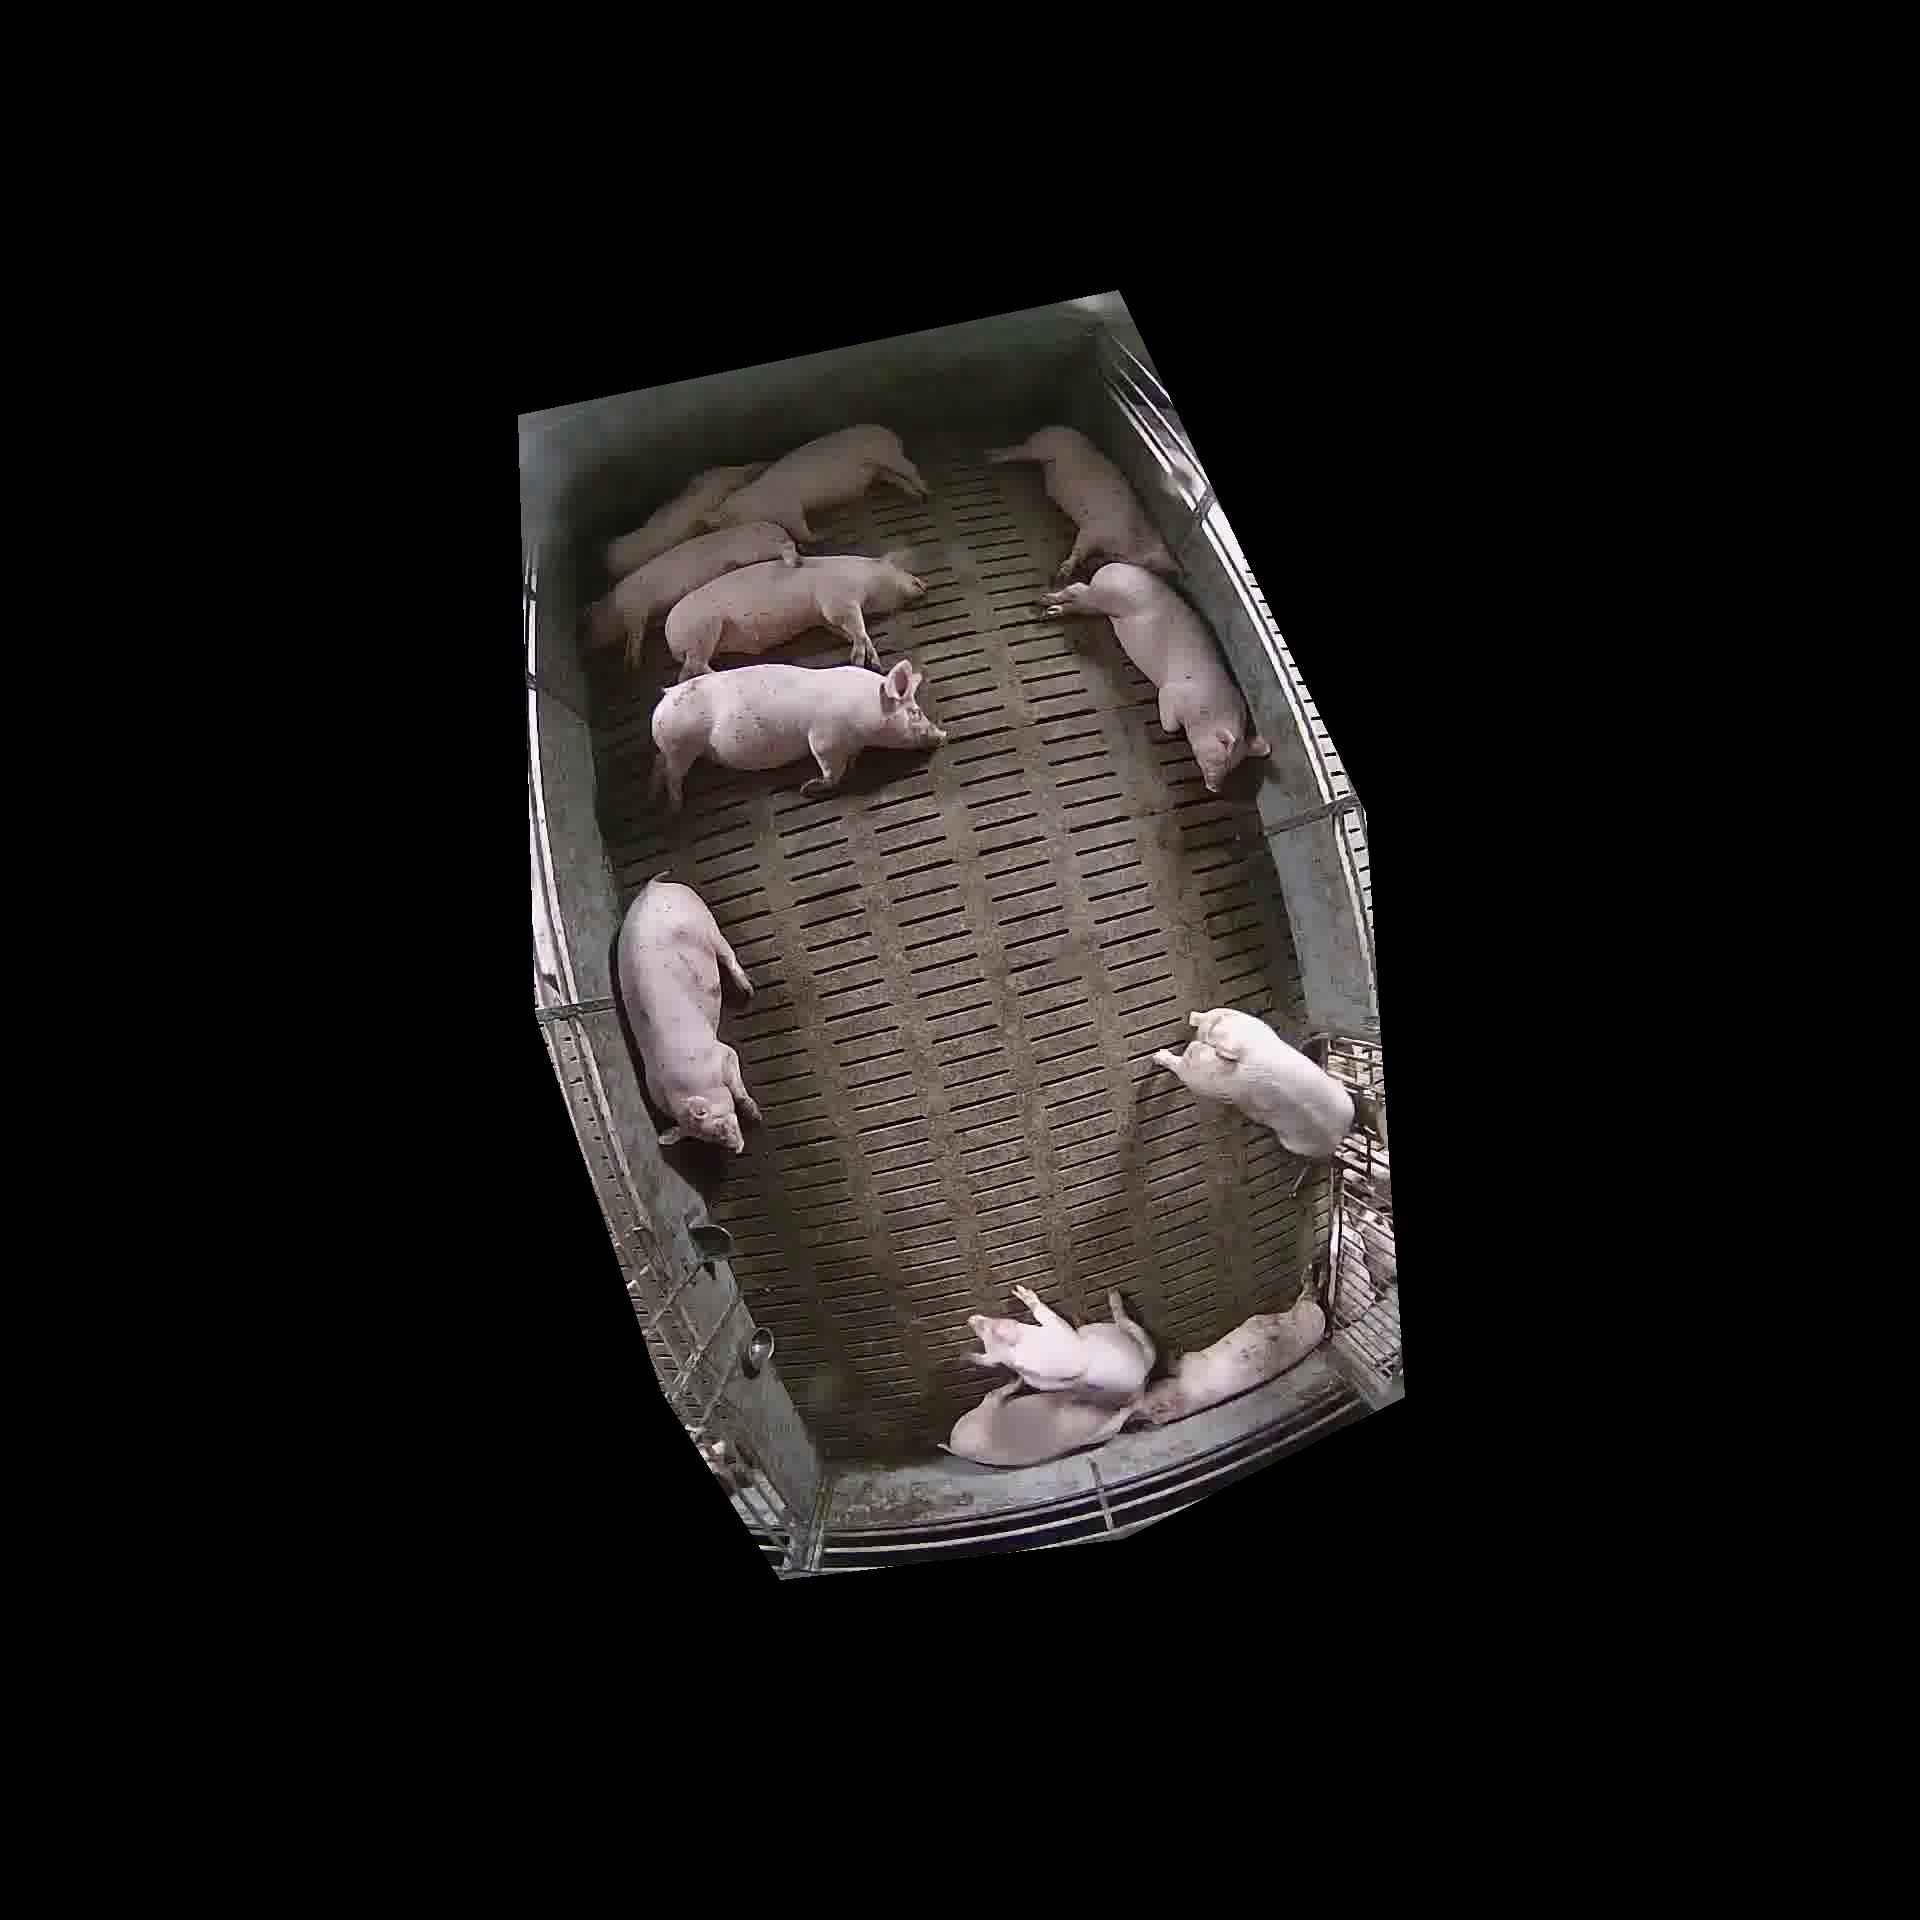pig: (1044, 559, 1269, 788), (652, 659, 946, 809), (617, 879, 760, 1152), (665, 550, 925, 679), (587, 520, 796, 666), (1153, 1007, 1354, 1159), (988, 425, 1176, 582), (705, 424, 927, 542), (1131, 1296, 1326, 1424), (969, 1284, 1153, 1396), (605, 462, 765, 580), (944, 1378, 1131, 1463)
